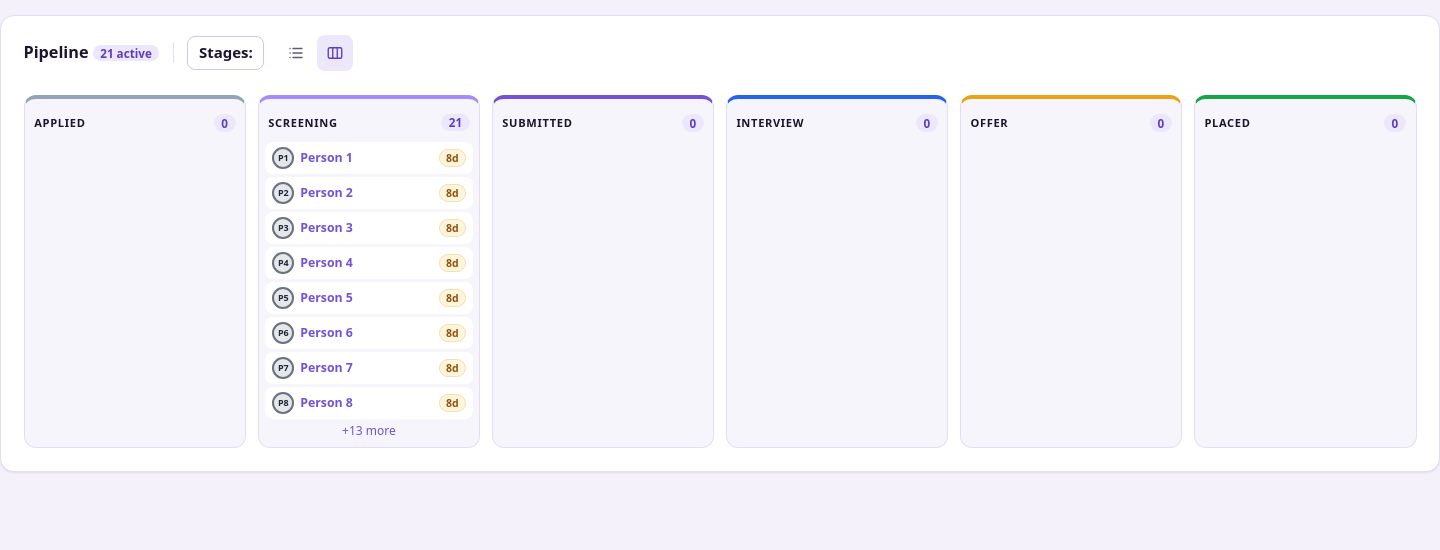
Scenario: the pipeline bar › says when too many are chosen for an email, a client link or formatting
Click the button named "Choose all 21 in Screening": (455, 123) 441,114 -> 470,131
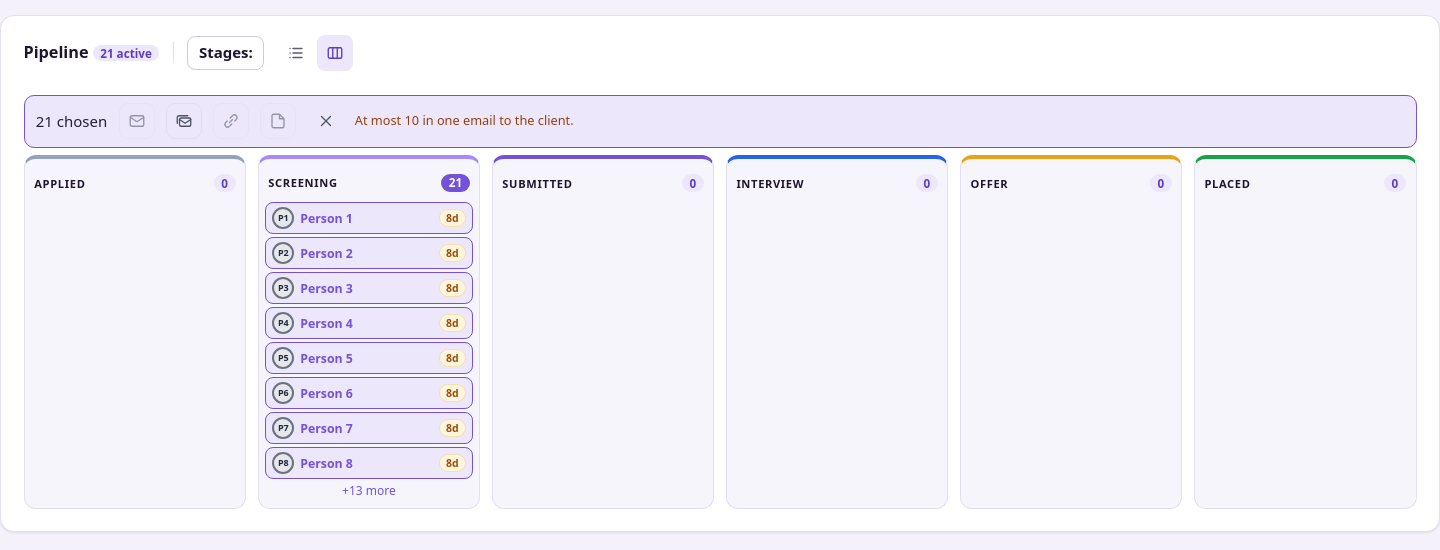
Expected: the button named "Email client about 21 candidates" is disabled, 118,103 -> 154,139
Expected: the button named "Client link for 21" is disabled, 213,103 -> 249,139
Expected: the button named "Format CVs for 21" is disabled, 260,103 -> 296,139
